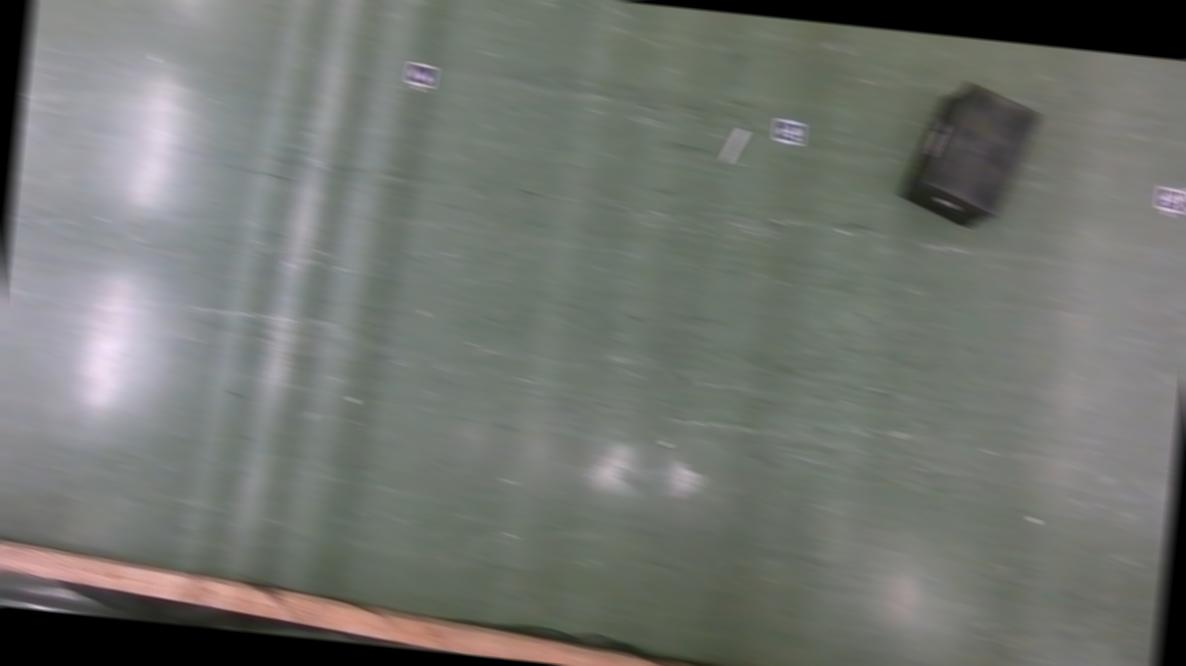probes: (720, 126, 746, 166)
rako: (895, 77, 1044, 237)
